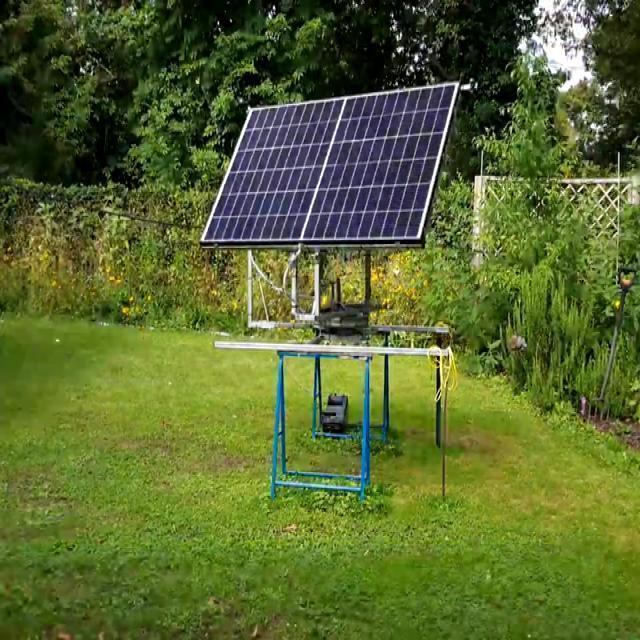Normal Solar Panel: (201, 81, 460, 247)
